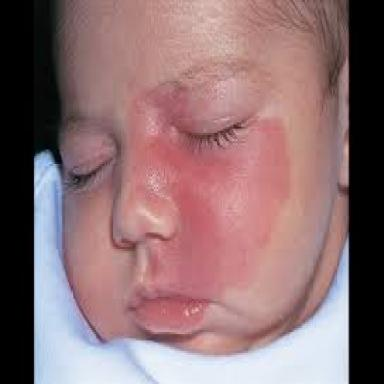burn: (116, 85, 288, 301)
